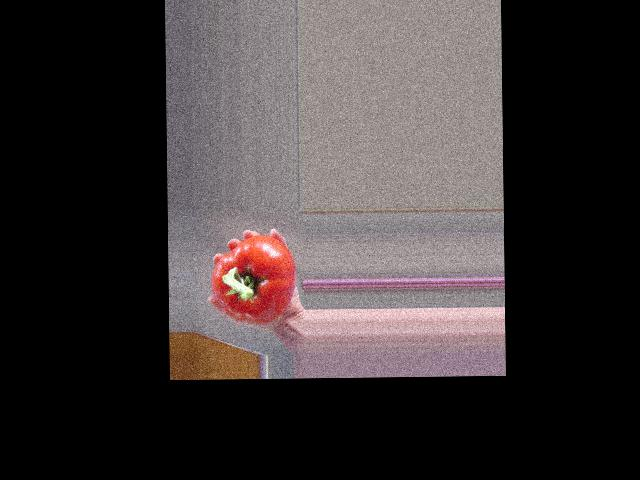tomato: (210, 234, 296, 323)
